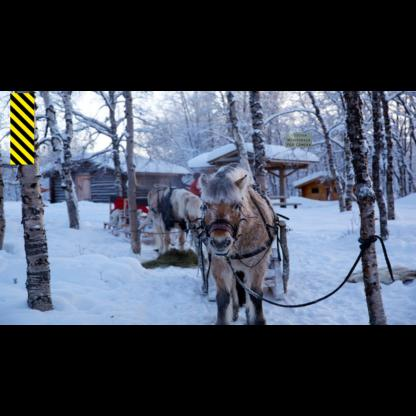I-E: (285, 132, 312, 147)
O-MP: (10, 93, 34, 164)
